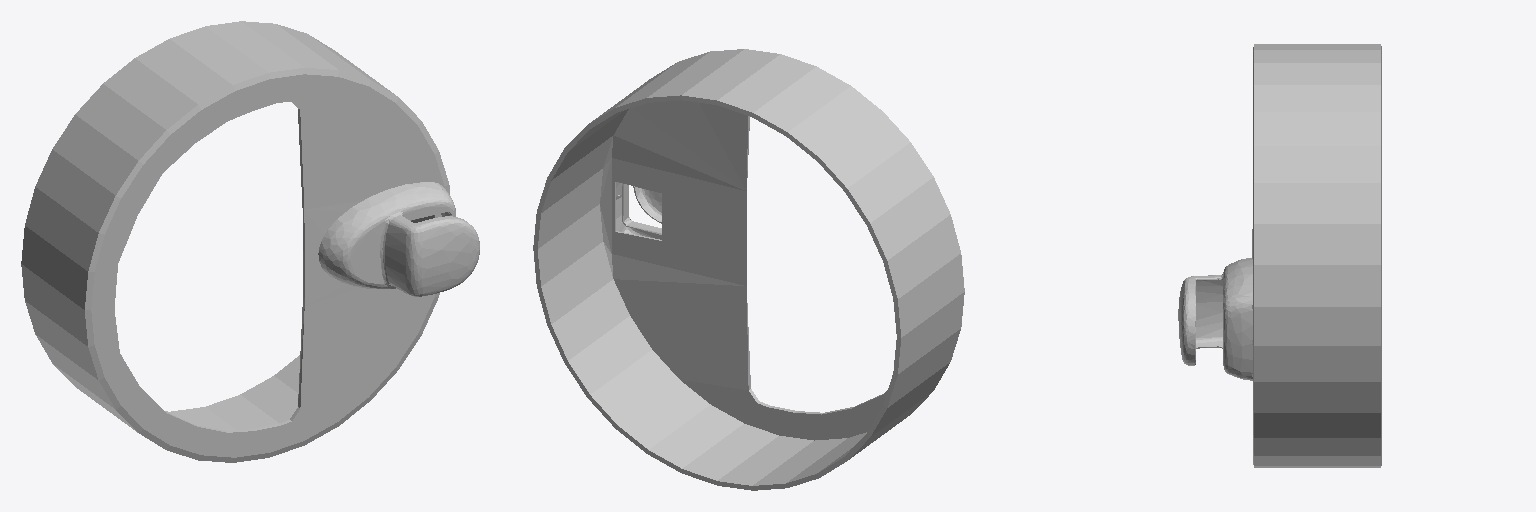
The model's file is base_light.obj.
3 renders of one model, left to right at view 1: azimuth 30°, elevation 25°; view 2: azimuth 150°, elevation 25°; view 3: azimuth 270°, elevation 25°, orthographic.
Size of the model in its own units: 0.4306 by 0.4306 by 0.2058.